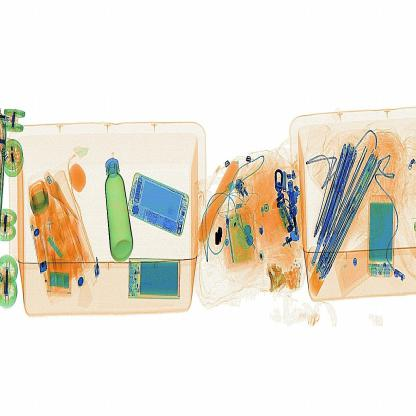knife: (211, 218, 230, 254)
